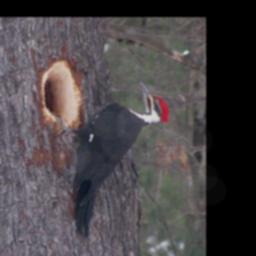Woodpecker: (50, 81, 172, 238)
